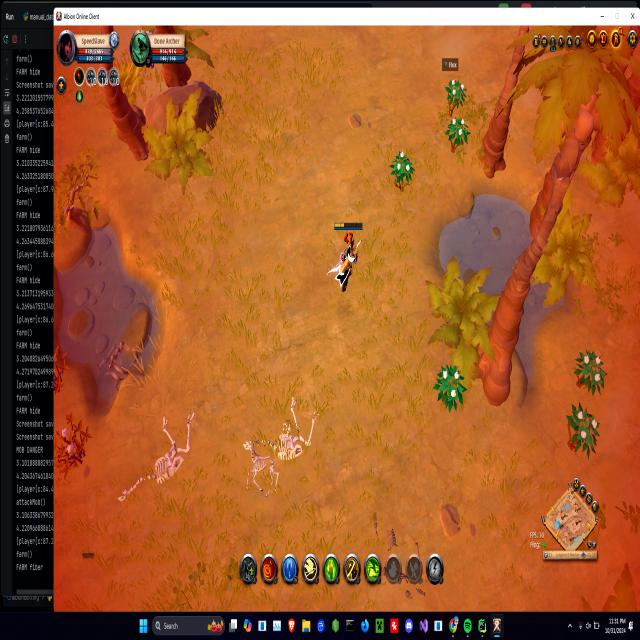hide: (54, 413, 88, 478), (568, 403, 598, 454), (436, 362, 464, 410), (576, 348, 604, 394), (392, 150, 413, 185), (447, 113, 467, 148), (446, 76, 465, 108)
red: (332, 218, 362, 288)
